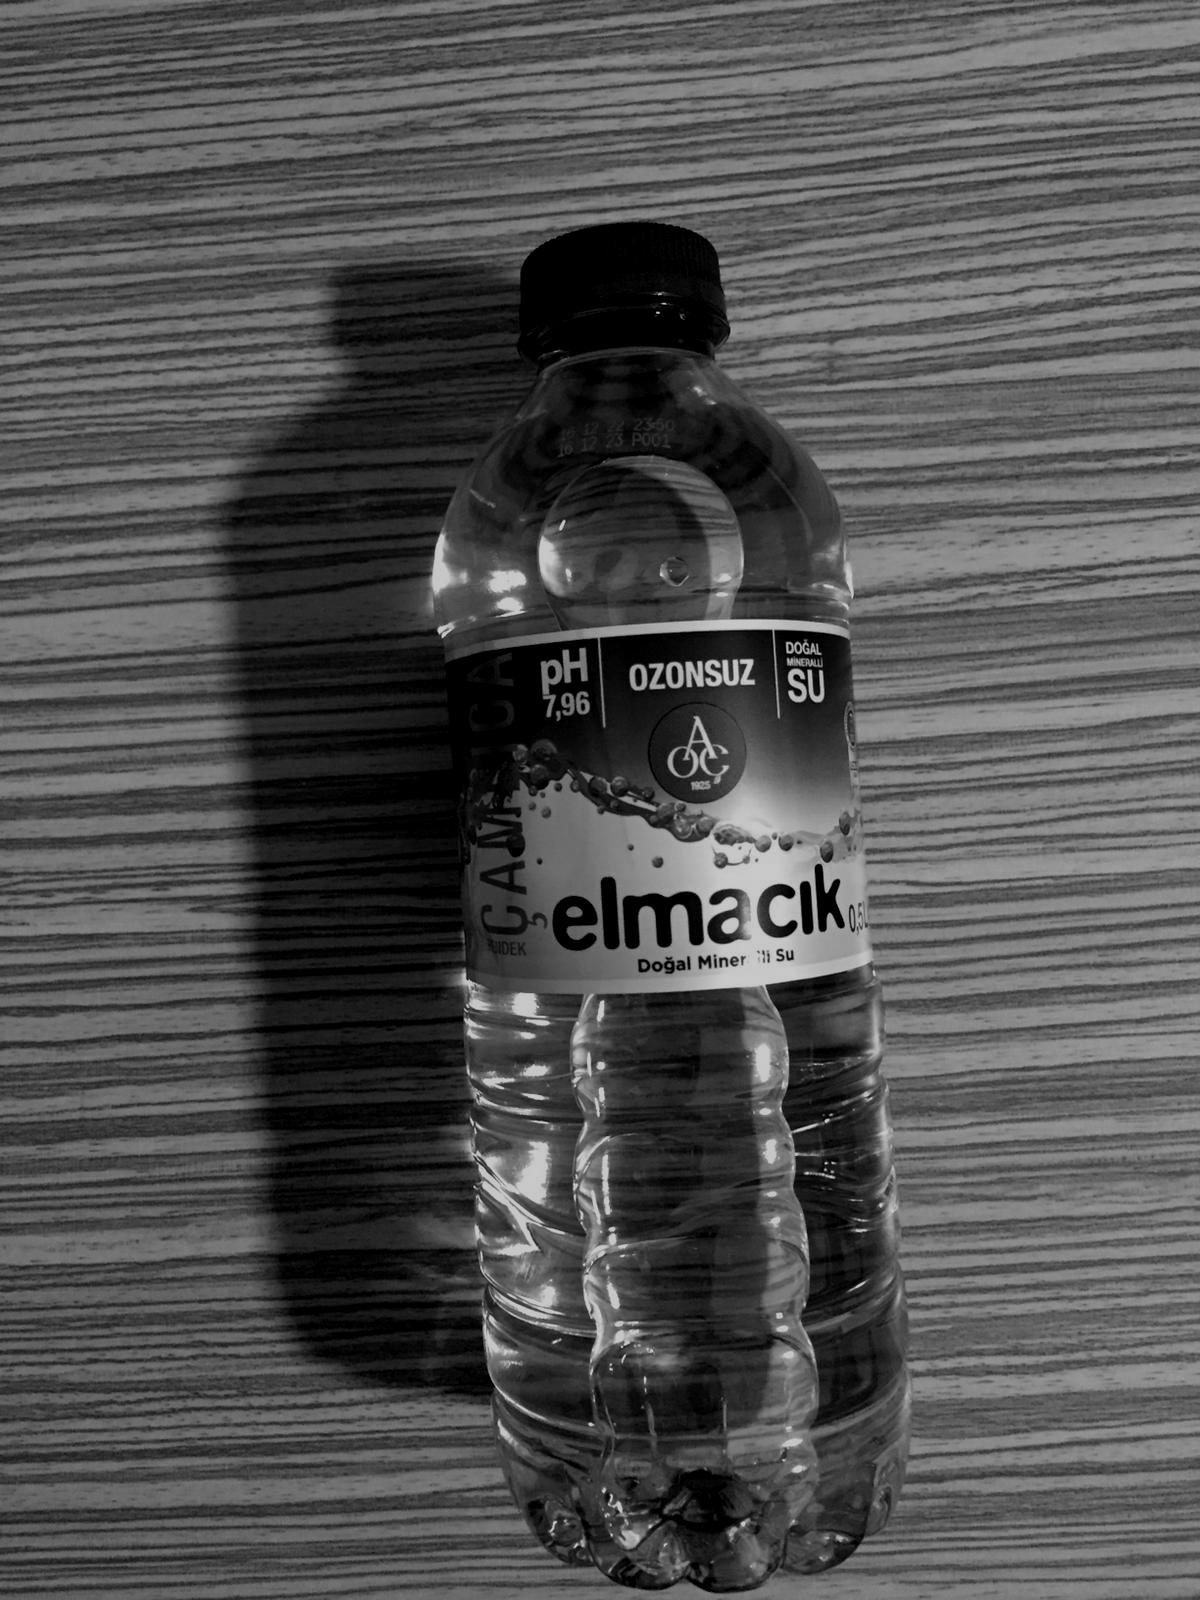bottle: (418, 215, 914, 1590)
